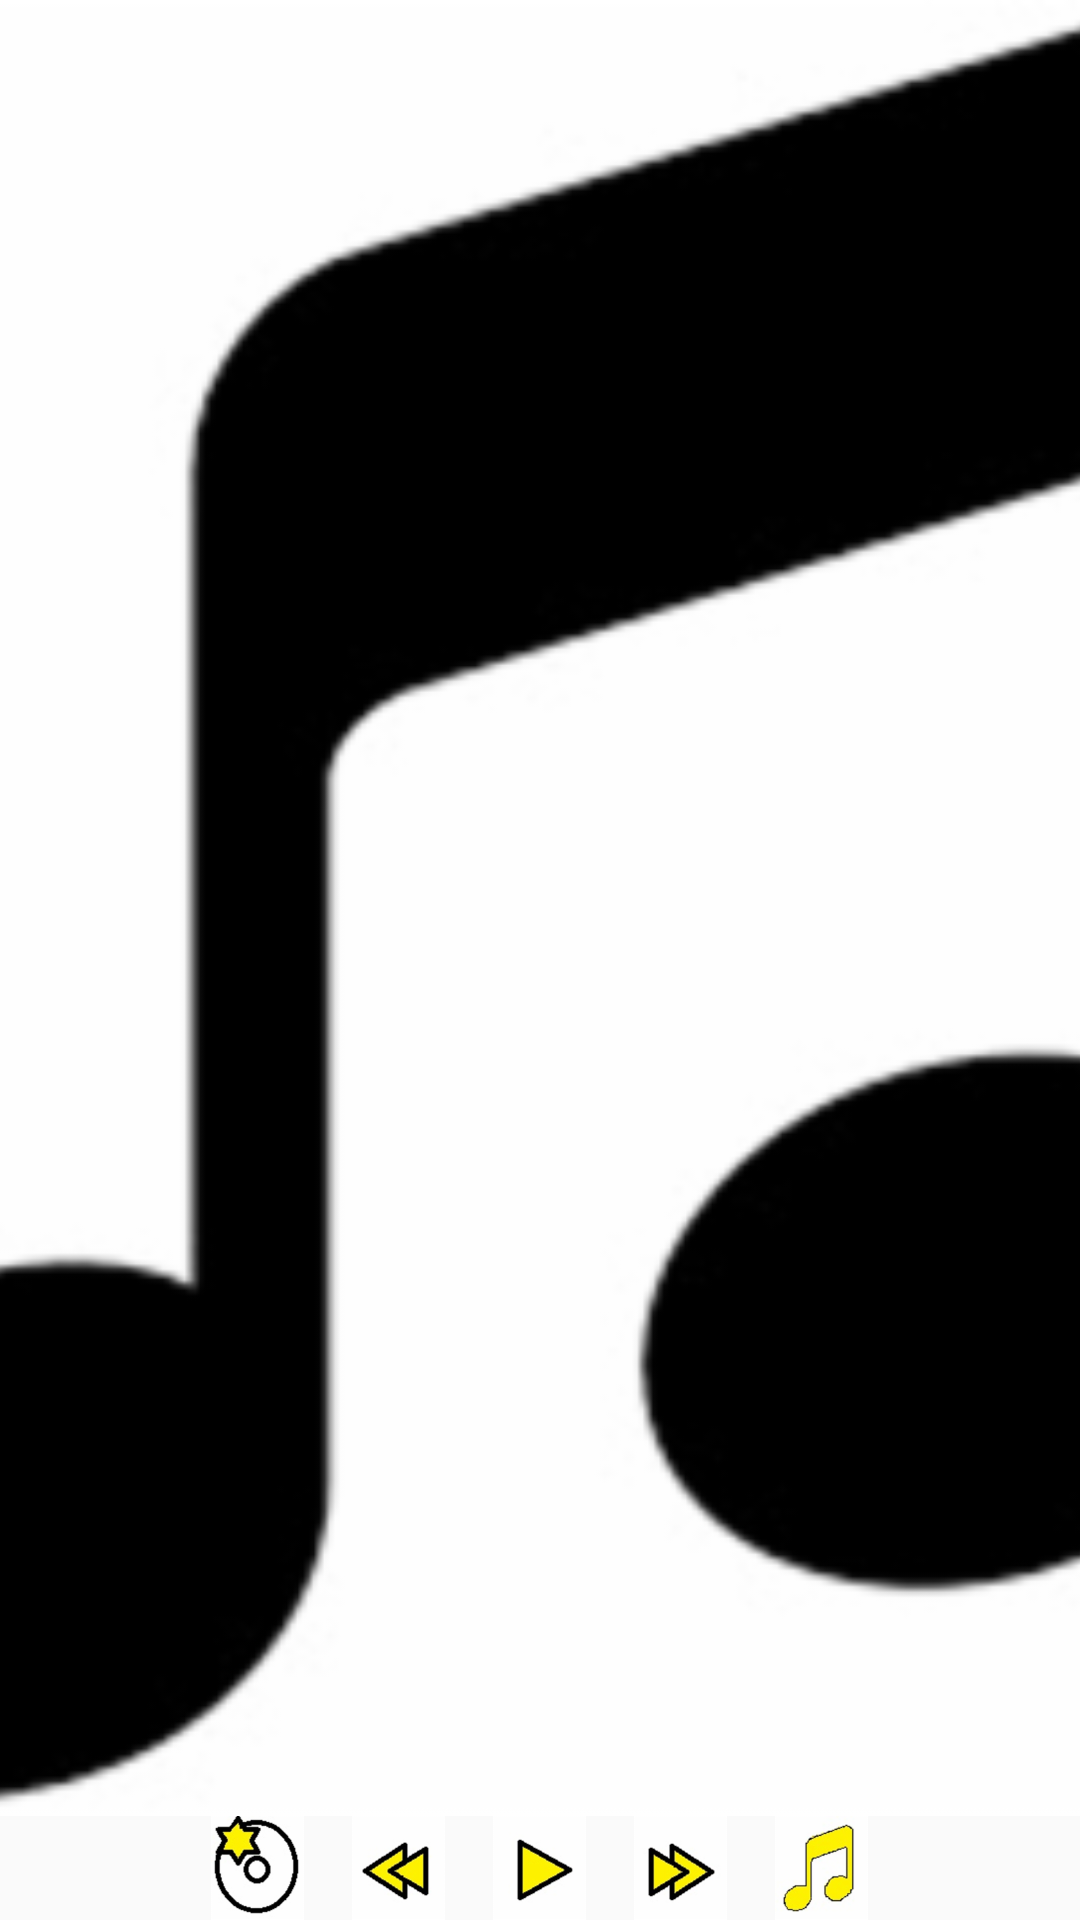

Point at icon controls on the screen. Image size 1080w x 1920h, points as (x,y).
Play or pause: (545,1870)
Skip Backwards: (395,1871)
Skip forwards: (681,1872)
